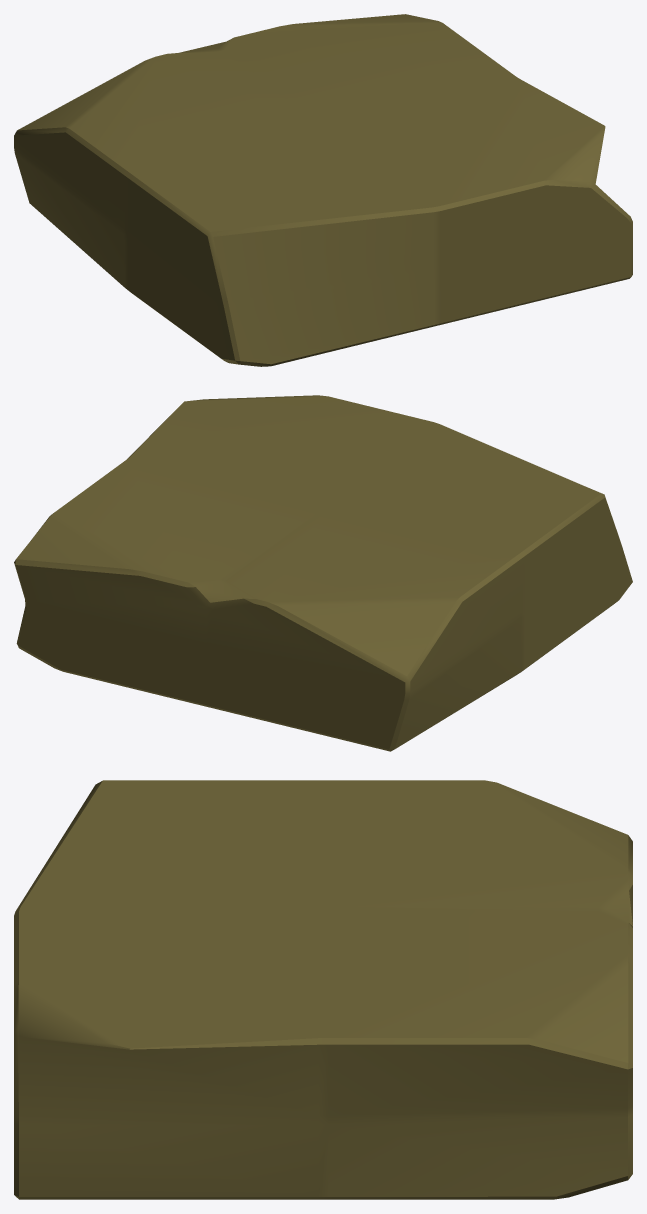
File: block3.fbx
3 renders of one model, top to bottom at view 1: azimuth 30°, elevation 25°; view 2: azimuth 150°, elevation 25°; view 3: azimuth 270°, elevation 25°, orthographic. The views are drawn at different scales.
Visible parts, largest first — view 1: Block_3; view 2: Block_3; view 3: Block_3.
Boxes of the visible parts, bbox=[...] form: Block_3: bbox=[14, 14, 632, 366]; Block_3: bbox=[14, 395, 632, 751]; Block_3: bbox=[14, 780, 632, 1199].
Size of the model in its own units: 126 by 35 by 121.
